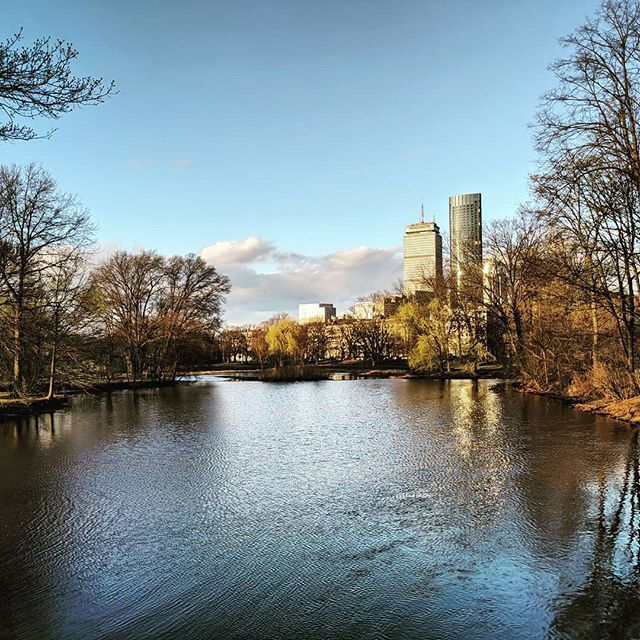building: (443, 181, 488, 313), (402, 218, 442, 296), (290, 298, 339, 329)
river: (51, 373, 621, 640)
sky: (110, 1, 536, 253)
tree: (531, 8, 640, 323), (1, 168, 95, 393), (87, 250, 235, 386), (441, 225, 566, 378)
